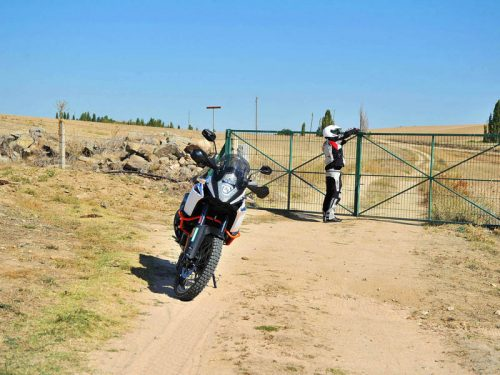Persona: (316, 121, 348, 228)
Valla: (222, 126, 498, 225)
Vehiculo: (171, 128, 273, 305)
